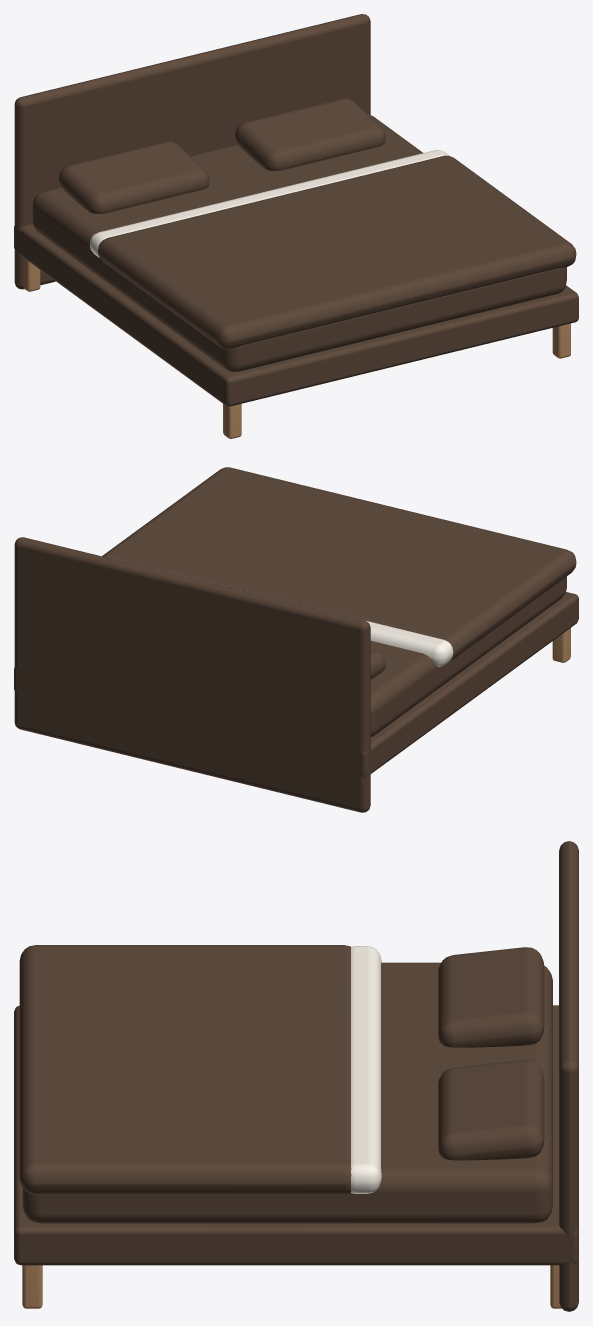
Rendered from bed_double.glb.
The picture shows the model from 3 angles, top to bottom: view 1: azimuth 30°, elevation 25°; view 2: azimuth 150°, elevation 25°; view 3: azimuth 270°, elevation 25°; orthographic projection. The views are drawn at different scales.
Visible parts, largest first — view 1: bed_double; view 2: bed_double; view 3: bed_double.
Part boxes in pixels (x1,y1,x2,y2): bed_double: [14, 14, 578, 438]; bed_double: [14, 467, 578, 812]; bed_double: [14, 841, 578, 1311].
Bounding box in the file's own units: 1.88 × 0.9588 × 1.96.
